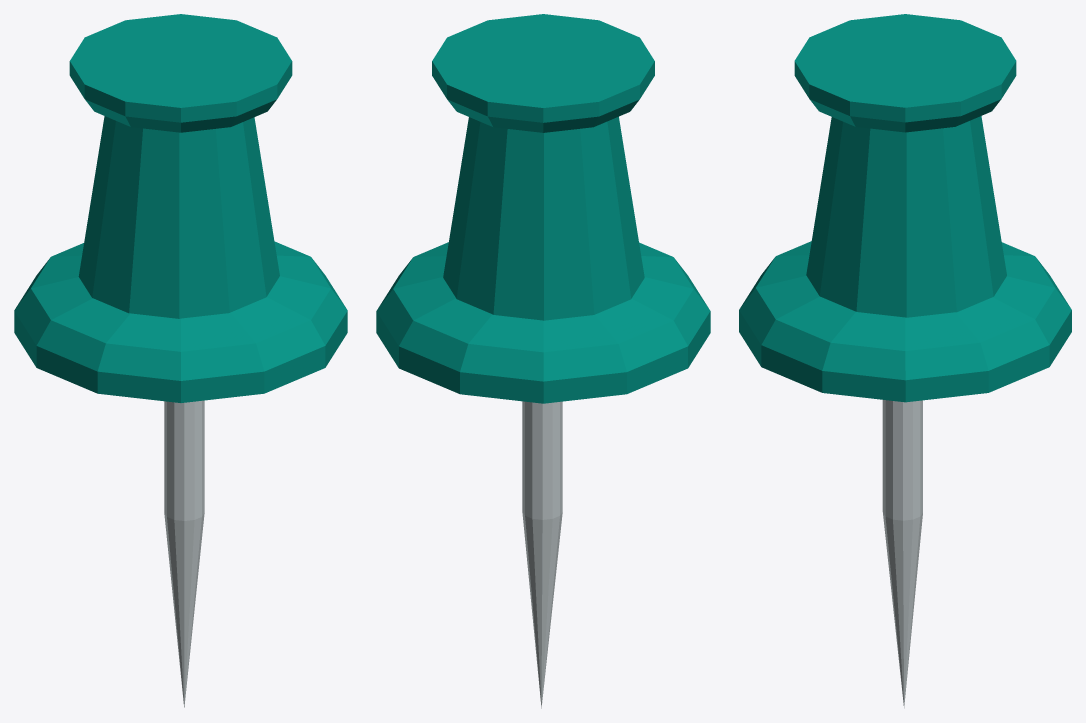
The model's file is pin.glb.
3 views of the same model, side by side, from view 1: azimuth 30°, elevation 25°; view 2: azimuth 150°, elevation 25°; view 3: azimuth 270°, elevation 25° (orthographic).
Parts seen in each view (by area): view 1: pin-col; view 2: pin-col; view 3: pin-col.
Boxes of the visible parts, x1,y1,x2,y2 form: pin-col: [14, 14, 347, 707]; pin-col: [376, 14, 710, 708]; pin-col: [739, 14, 1071, 708].
Bounding box in the file's own units: 0.66 × 1.42 × 0.66.
